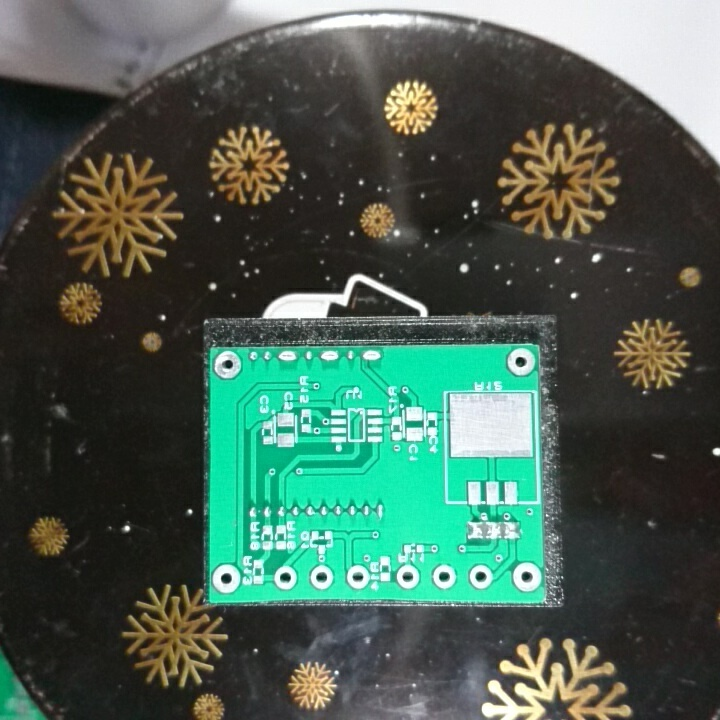F: (211, 349, 244, 382), (505, 344, 537, 378), (211, 561, 242, 596), (511, 560, 542, 594), (467, 563, 496, 592), (431, 562, 459, 592), (394, 563, 422, 592), (343, 562, 370, 591), (272, 564, 299, 592), (307, 562, 335, 588)
P: (359, 347, 384, 363), (317, 347, 338, 365), (276, 349, 299, 364)
